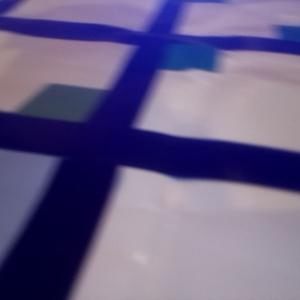bottom_right: (140, 36, 215, 71)
top_left: (18, 84, 131, 153)
